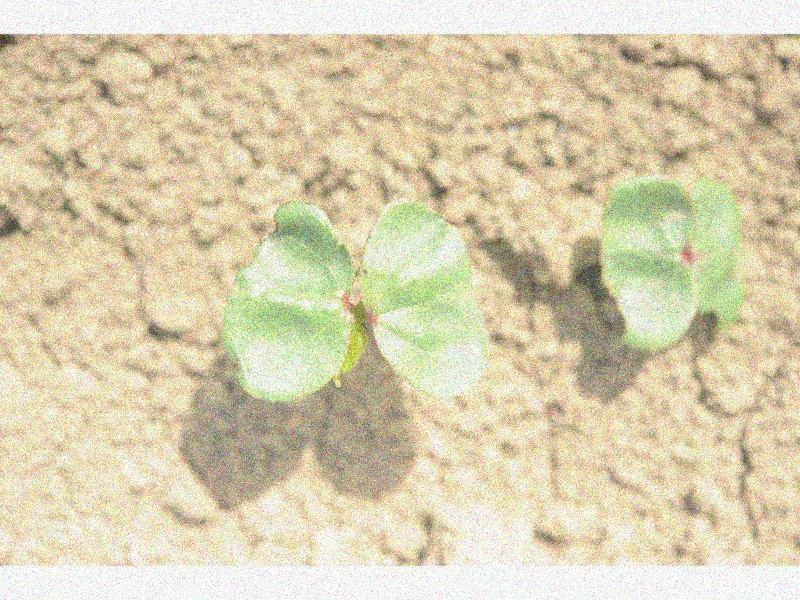cotton: (220, 197, 487, 399), (599, 173, 745, 351)
